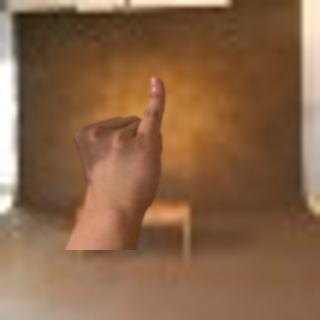FINE: (68, 72, 171, 210)
